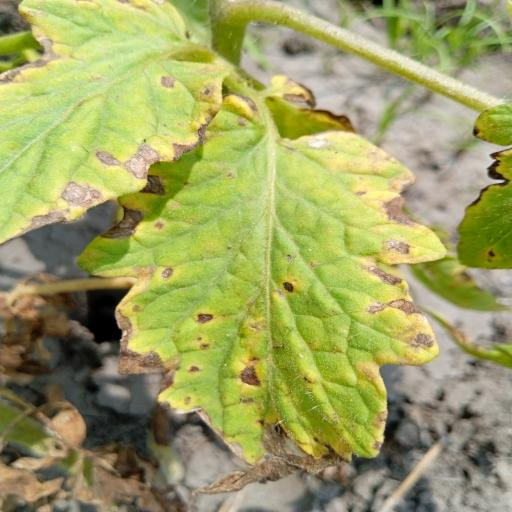Tomato_Brown_Spots: (83, 85, 455, 484)
